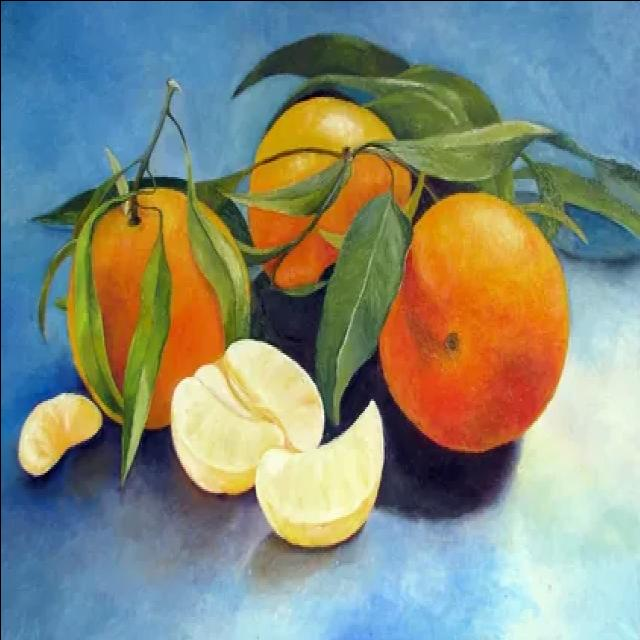orange: (364, 178, 580, 458)
